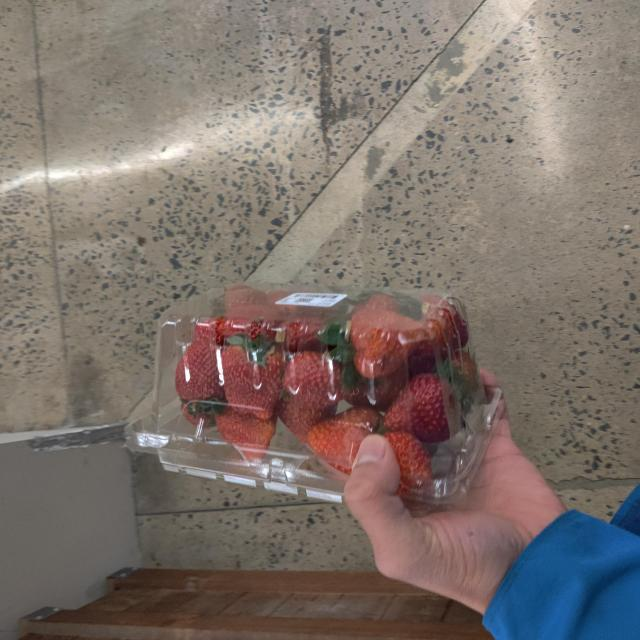Strawberries: (135, 260, 503, 521)
